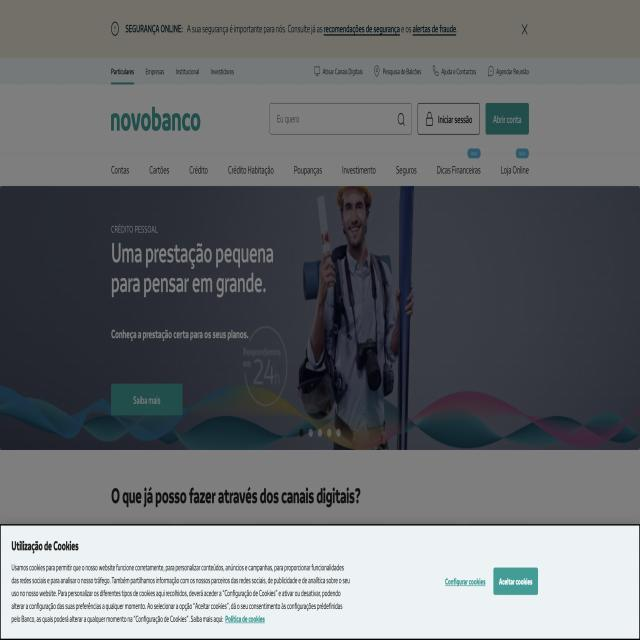Logo: (110, 86, 208, 145)
Navigation: (103, 148, 548, 181)
